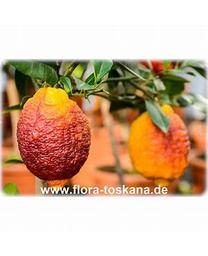lemon: (18, 90, 92, 182), (127, 102, 191, 180)
